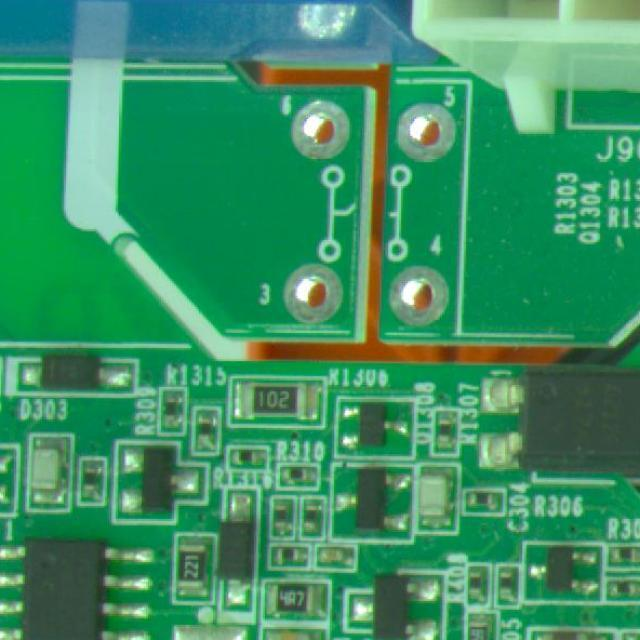Insufficient solder: (397, 97, 464, 172), (282, 259, 349, 331), (290, 98, 356, 166), (389, 260, 453, 330)
